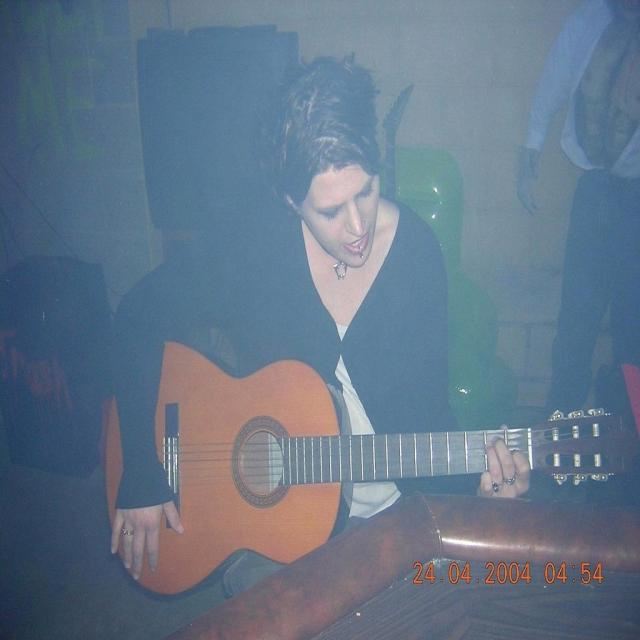guitar: (101, 337, 624, 603)
